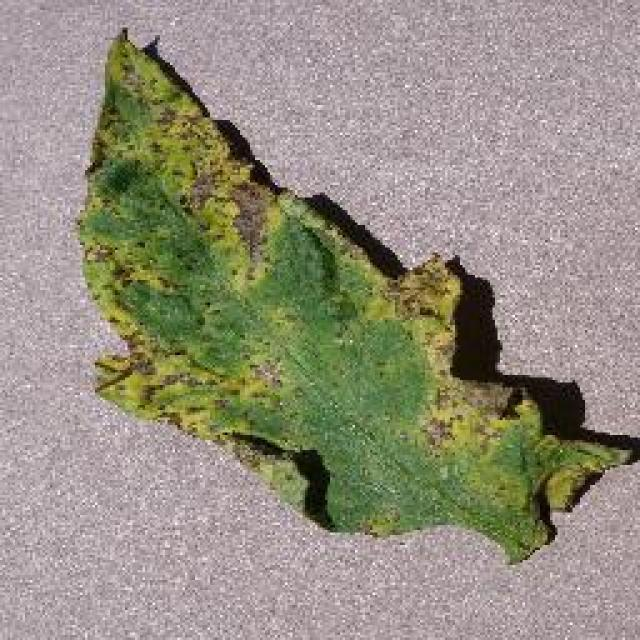Tomato Septoria spot leaf: (74, 26, 630, 564)
